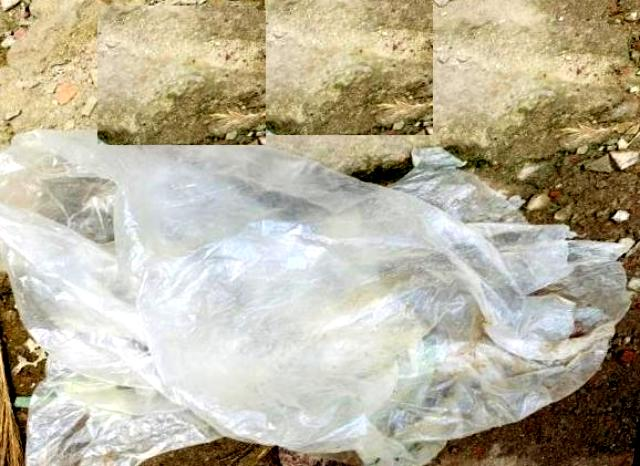polythene: (20, 60, 624, 465)
